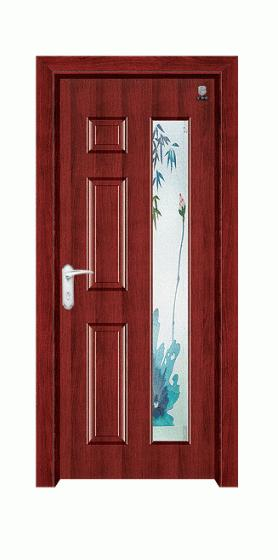door: (58, 79, 220, 481)
